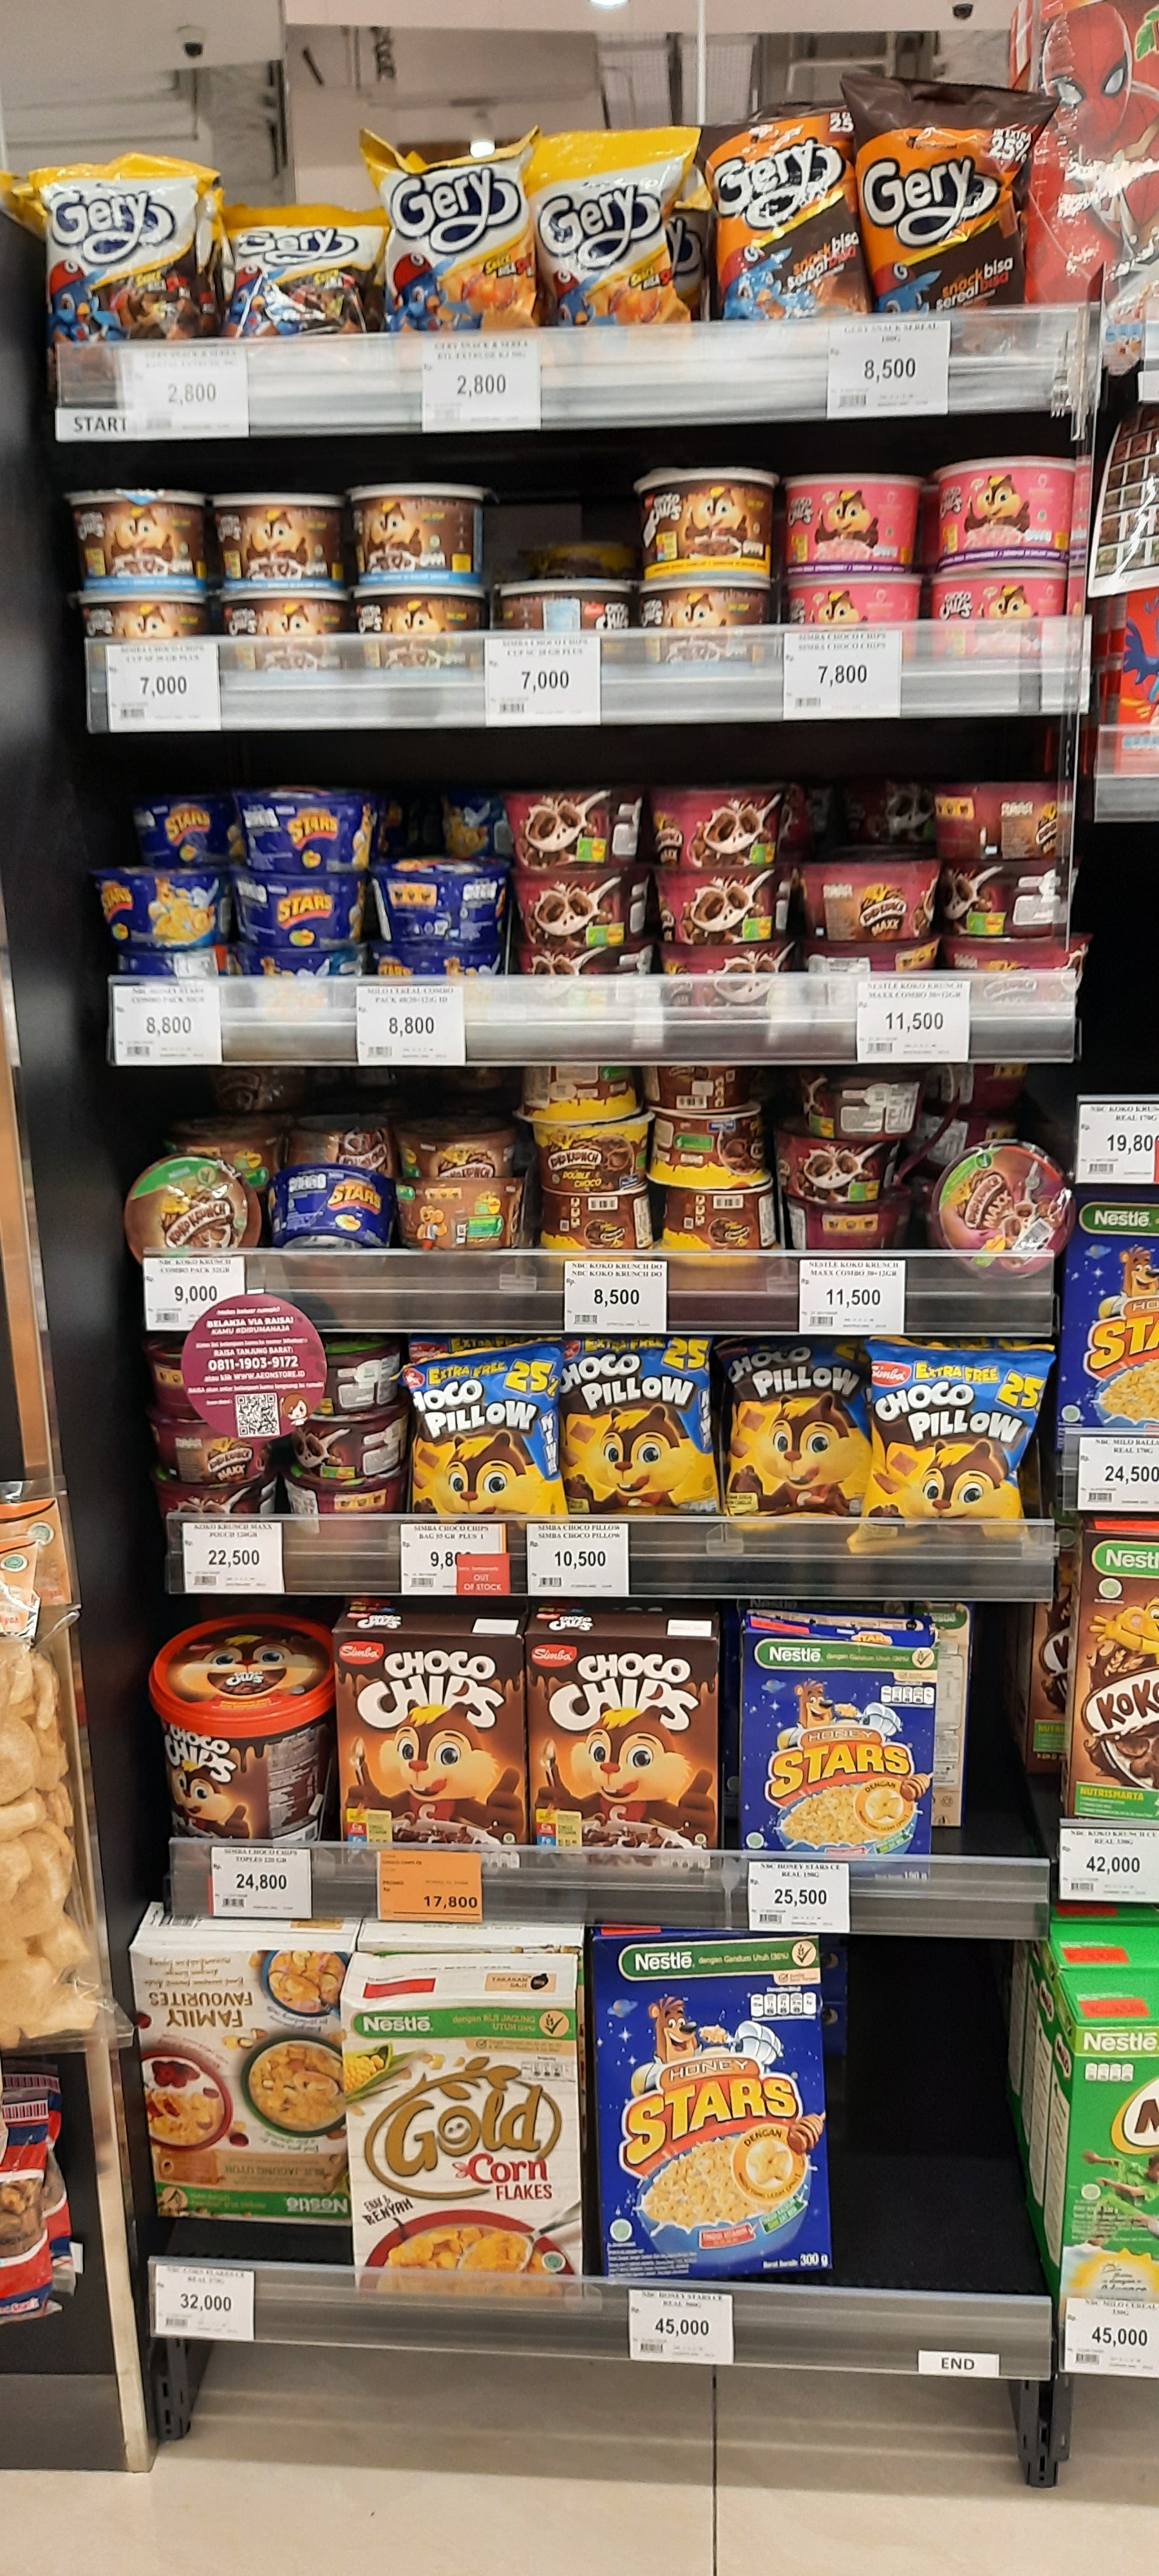90101163101100: (33, 172, 204, 394), (213, 205, 371, 335)
90101163104100: (361, 131, 540, 353), (532, 125, 693, 329)
90101232304100: (845, 76, 1034, 363), (698, 107, 855, 320)
NestleGoldCornFlakesBox: (343, 1955, 581, 2307), (131, 1924, 350, 2226)
NestleHoneyStarBox150G: (740, 1618, 923, 1883)
NestleHoneyStarBox300G: (594, 1935, 827, 2275)
NestleHoneyStarCup: (238, 792, 374, 871), (374, 864, 511, 943), (97, 867, 233, 946), (230, 874, 368, 951), (268, 1168, 394, 1247)
NestleKokoKrunchComboCup: (128, 1157, 251, 1252), (401, 1178, 517, 1249)
NestleKokoKrunchDoubleChocoCup: (529, 1120, 642, 1193), (657, 1115, 770, 1188), (538, 1196, 650, 1268), (665, 1189, 776, 1262)
NestleKokoKrunchMaxxCup: (936, 1142, 1072, 1270), (507, 793, 640, 871), (803, 861, 936, 938), (944, 861, 1075, 938), (655, 871, 788, 946), (652, 789, 785, 864), (509, 872, 642, 948), (660, 948, 793, 1023), (954, 938, 1087, 1014), (939, 780, 1072, 856), (514, 948, 645, 1023), (775, 1138, 911, 1209), (143, 1419, 276, 1488), (292, 1416, 412, 1488), (806, 1066, 918, 1138), (287, 1485, 397, 1538), (788, 1211, 909, 1257)
SimbaChocoPillow: (870, 1345, 1046, 1554), (404, 1341, 563, 1534), (716, 1332, 875, 1526), (553, 1336, 712, 1528)
SimbaSerealChocoChipsBox: (529, 1607, 722, 1871), (335, 1607, 527, 1870)
SimbaSerealChocoChipsBucket: (153, 1617, 328, 1871)
SimbaSerealChocoChipsCupCoklatSusuCoklat: (639, 468, 770, 580)
SimbaSerealChocoChipsCupCoklatSusuPutih: (350, 585, 486, 680), (69, 495, 205, 588), (212, 593, 348, 687), (351, 486, 488, 580), (210, 493, 346, 586), (640, 585, 773, 665)
SimbaSerealChocoChipsCupStrawberry: (939, 460, 1077, 563), (785, 478, 921, 572), (931, 570, 1067, 662), (785, 578, 921, 670)
